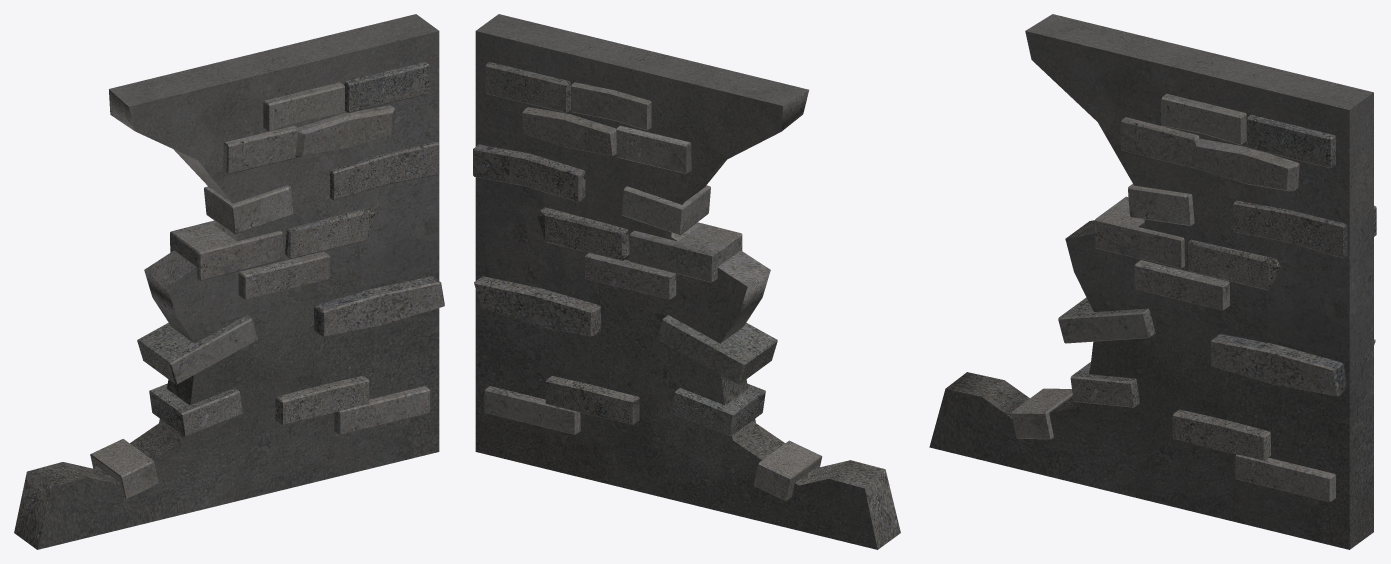
Rendered from Wall_crack1.fbx.
3 renders of one model, left to right at view 1: azimuth 30°, elevation 25°; view 2: azimuth 150°, elevation 25°; view 3: azimuth 330°, elevation 25°, orthographic. The views are drawn at different scales.
Parts seen in each view (by area): view 1: Wall_crack1; view 2: Wall_crack1; view 3: Wall_crack1.
Boxes of the visible parts, left/top/right/bottom form: Wall_crack1: left=14, top=14, right=444, bottom=549; Wall_crack1: left=473, top=14, right=900, bottom=549; Wall_crack1: left=929, top=14, right=1376, bottom=549.
Size of the model in its own units: 3 by 3 by 0.5217.
Materials: 1 (1 with a texture image).
